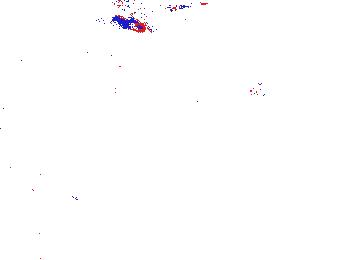X-ray fish: (116, 118, 162, 146)
red belly glassfish: (114, 14, 146, 34), (250, 81, 270, 98)
redtail glassfish: (110, 1, 188, 18)
